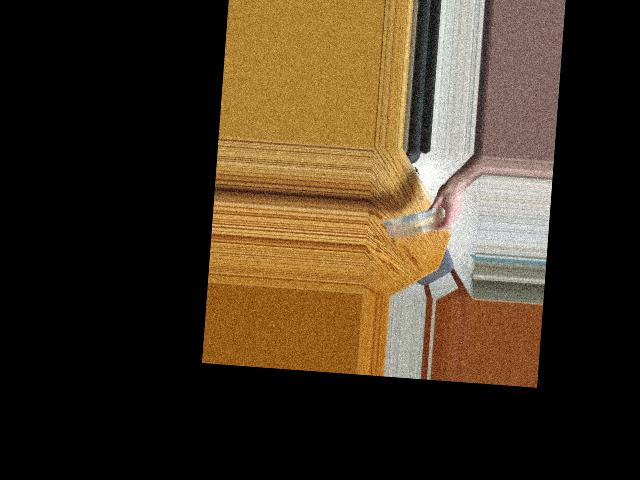cheese: (381, 209, 451, 238)
